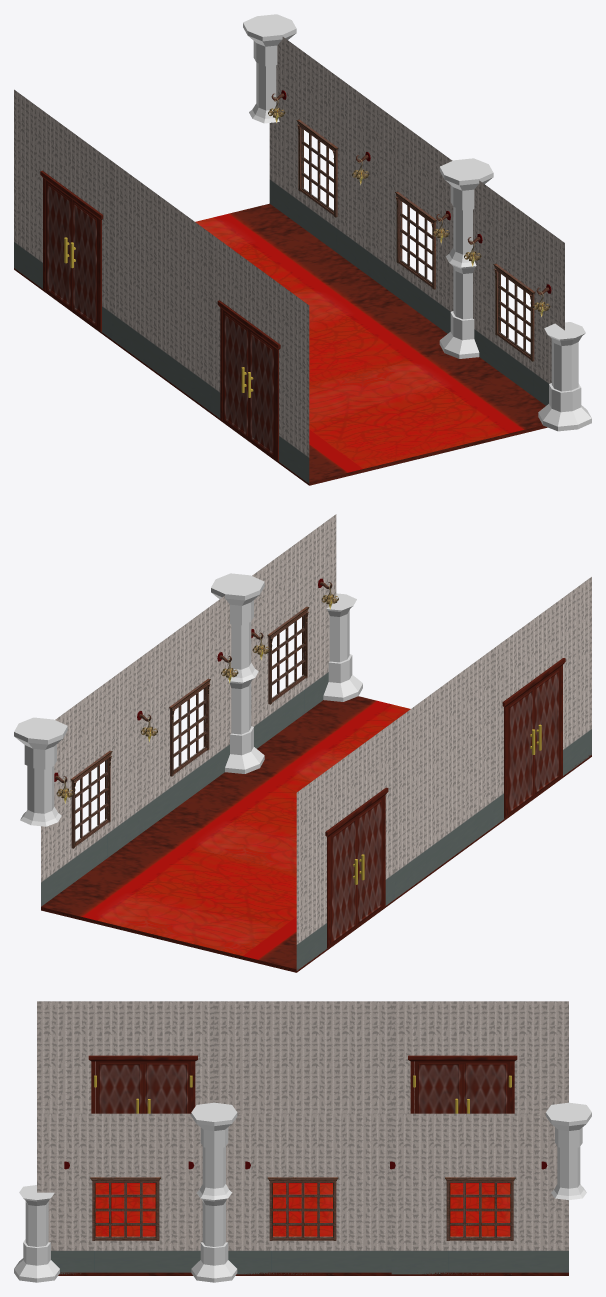
Rendered from Stage.fbx.
3 views of the same model, one above another, from view 1: azimuth 30°, elevation 25°; view 2: azimuth 150°, elevation 25°; view 3: azimuth 270°, elevation 25° (orthographic). The views are drawn at different scales.
Parts seen in each view (by area): view 1: floor002, wall.001, window_wall, window_wall.003, window_wall.002, wall.002, wall, floor003, floor, pillar_down002, RightDoor.001, LeftDoor.001 (+10 smaller); view 2: floor, wall.001, window_wall.002, window_wall, window_wall.003, wall, wall.002, floor003, floor002, pillar_up, RightDoor.002, RightDoor.001 (+10 smaller); view 3: window_wall, window_wall.002, window_wall.003, wall.001, wall.002, wall, floor, floor003, floor002, pillar_up002, pillar_up, pillar_down002 (+10 smaller).
Part boxes in pixels (x1=…): floor002: x1=211, y1=353, x2=547, y2=485; wall.001: x1=112, y1=161, x2=210, y2=411; window_wall: x1=269, y1=37, x2=368, y2=275; window_wall.003: x1=473, y1=180, x2=564, y2=405; window_wall.002: x1=368, y1=99, x2=453, y2=333; wall.002: x1=211, y1=234, x2=309, y2=483; wall: x1=14, y1=89, x2=112, y2=339; floor003: x1=112, y1=276, x2=447, y2=413; floor: x1=14, y1=203, x2=367, y2=340; pillar_down002: x1=538, y1=322, x2=591, y2=431; RightDoor.001: x1=45, y1=180, x2=72, y2=310; LeftDoor.001: x1=70, y1=199, x2=98, y2=328; floor: x1=41, y1=835, x2=394, y2=972; wall.001: x1=395, y1=649, x2=493, y2=898; window_wall.002: x1=139, y1=596, x2=231, y2=834; window_wall: x1=41, y1=658, x2=139, y2=906; window_wall.003: x1=251, y1=514, x2=336, y2=748; wall: x1=296, y1=721, x2=394, y2=970; wall.002: x1=493, y1=577, x2=591, y2=826; floor003: x1=139, y1=768, x2=493, y2=900; floor002: x1=257, y1=696, x2=591, y2=828; pillar_up: x1=14, y1=717, x2=67, y2=826; RightDoor.002: x1=507, y1=686, x2=535, y2=816; RightDoor.001: x1=330, y1=816, x2=357, y2=945; window_wall: x1=391, y1=1113, x2=568, y2=1274; window_wall.002: x1=226, y1=1113, x2=391, y2=1274; window_wall.003: x1=37, y1=1113, x2=202, y2=1274; wall.001: x1=214, y1=1001, x2=391, y2=1113; wall.002: x1=37, y1=1001, x2=214, y2=1113; wall: x1=391, y1=1001, x2=568, y2=1113; floor: x1=391, y1=1183, x2=568, y2=1275; floor003: x1=235, y1=1183, x2=391, y2=1275; floor002: x1=58, y1=1183, x2=192, y2=1275; pillar_up002: x1=191, y1=1102, x2=237, y2=1200; pillar_up: x1=546, y1=1102, x2=591, y2=1200; pillar_down002: x1=14, y1=1185, x2=59, y2=1282.
Size of the model in its own units: 3323 by 2036 by 6520.
